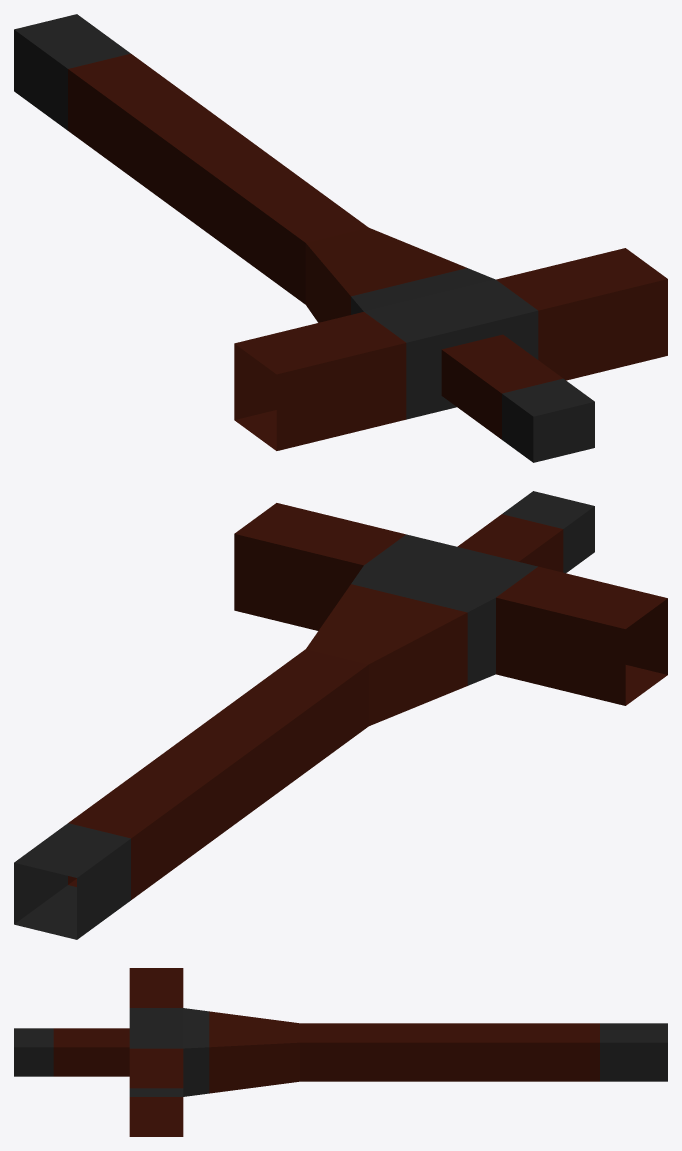
Rendered from trebuchet_arm.obj.
3 views of the same model, one above another, from view 1: azimuth 30°, elevation 25°; view 2: azimuth 150°, elevation 25°; view 3: azimuth 270°, elevation 25° (orthographic). The views are drawn at different scales.
Visible parts, largest first — view 1: trebuchet_arm; view 2: trebuchet_arm; view 3: trebuchet_arm.
Part boxes in pixels (x1,y1,x2,y2): trebuchet_arm: [14, 14, 667, 462]; trebuchet_arm: [14, 491, 667, 939]; trebuchet_arm: [14, 968, 667, 1136].
Bounding box in the file's own units: 0.416 × 0.078 × 0.9551.
